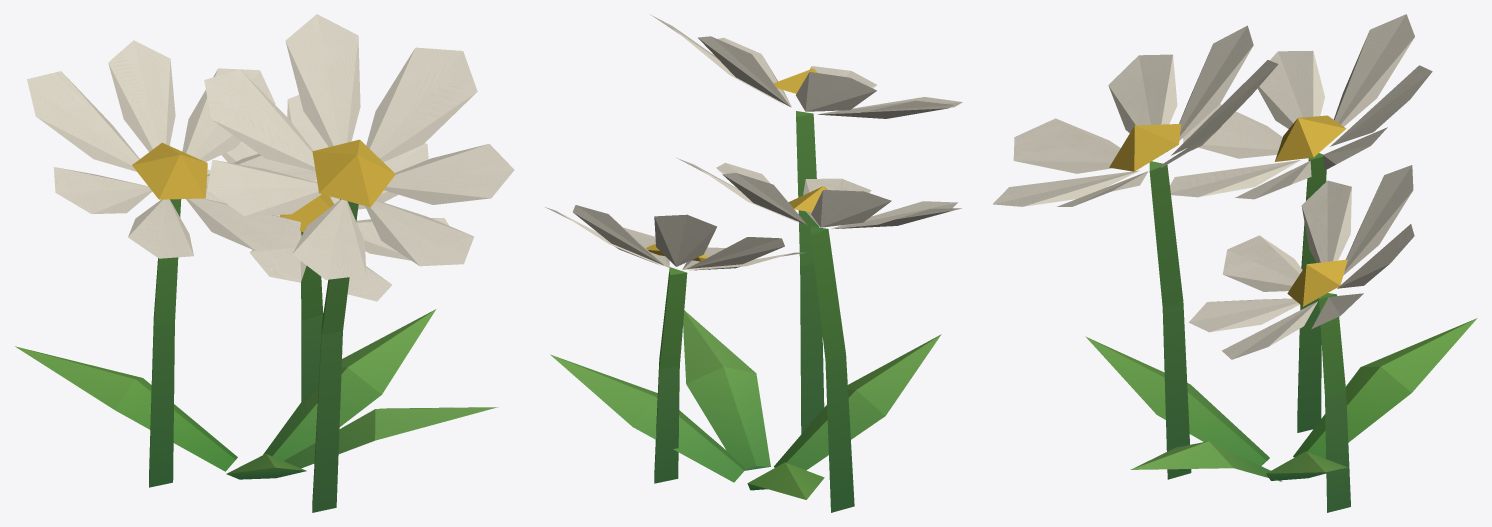
The model's file is plant_flowers_daisy_v3.fbx.
3 renders of one model, left to right at view 1: azimuth 30°, elevation 25°; view 2: azimuth 150°, elevation 25°; view 3: azimuth 270°, elevation 25°, orthographic. The views are drawn at different scales.
Visible parts, largest first — view 1: plant_flowers_daisy_v3; view 2: plant_flowers_daisy_v3; view 3: plant_flowers_daisy_v3.
Part boxes in pixels (box(x1,y1,x2,y2)): plant_flowers_daisy_v3: box(15, 14, 514, 512); plant_flowers_daisy_v3: box(545, 14, 962, 512); plant_flowers_daisy_v3: box(993, 14, 1477, 512).
Size of the model in its own units: 229 by 240 by 243.
